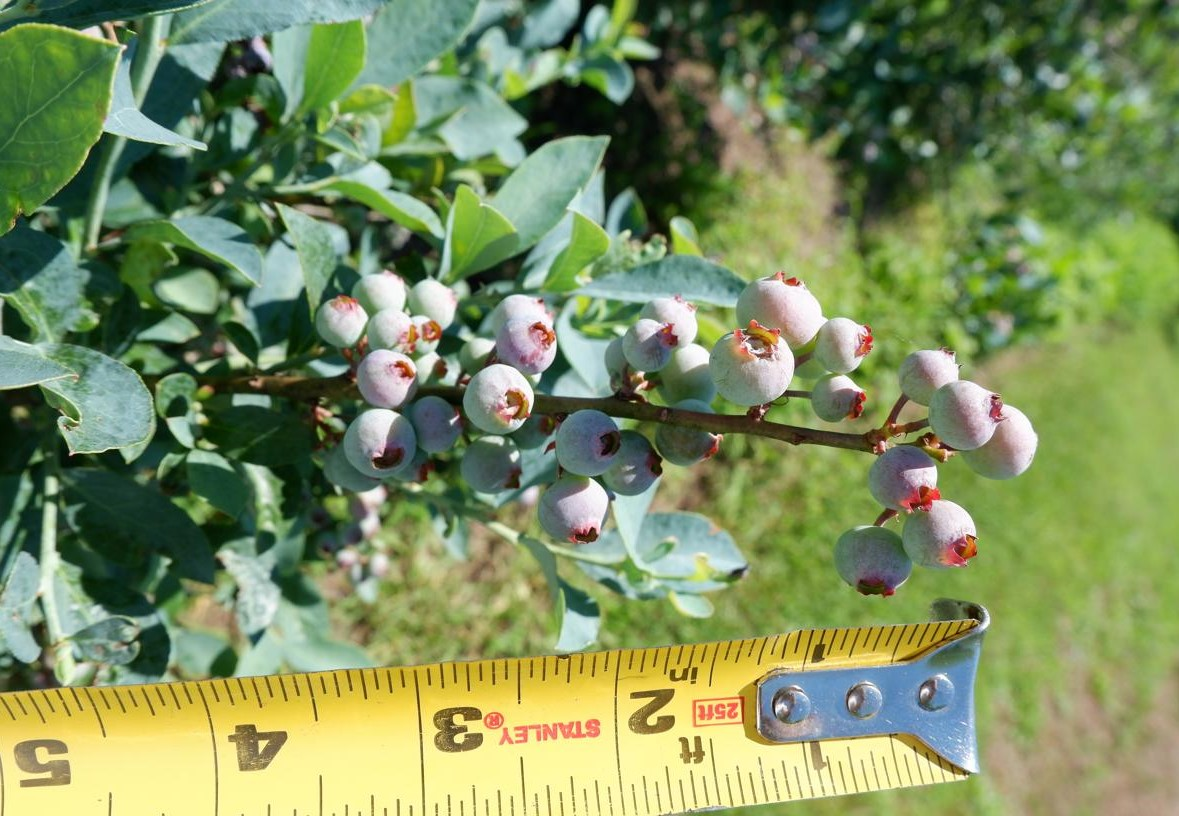Immature: (708, 319, 795, 407), (736, 270, 823, 349), (959, 406, 1039, 481), (928, 381, 1009, 451), (901, 499, 979, 570), (832, 525, 911, 595), (344, 408, 418, 479), (462, 364, 535, 435), (869, 445, 941, 516), (537, 475, 611, 544), (554, 409, 623, 477), (654, 399, 723, 467), (601, 430, 663, 496), (654, 344, 716, 406), (356, 351, 420, 410), (461, 435, 523, 494), (496, 317, 558, 375), (637, 293, 699, 351), (814, 317, 875, 374), (898, 350, 960, 406), (409, 395, 464, 454), (324, 440, 382, 494), (315, 293, 370, 349), (622, 319, 679, 371), (812, 375, 868, 424), (492, 294, 554, 337), (353, 269, 406, 319), (407, 278, 457, 330), (368, 309, 419, 354), (604, 337, 645, 387), (459, 337, 503, 377), (793, 336, 834, 378), (506, 414, 555, 449), (407, 315, 442, 361), (393, 444, 430, 483), (412, 351, 448, 388)
